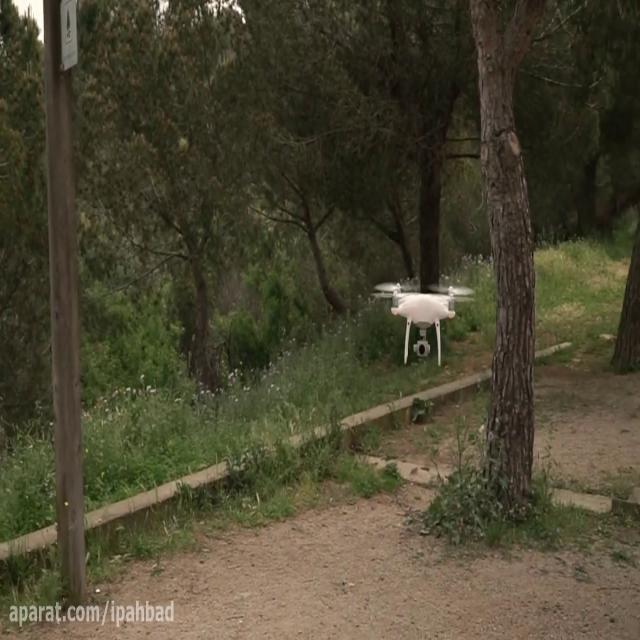drone: (370, 277, 476, 367)
